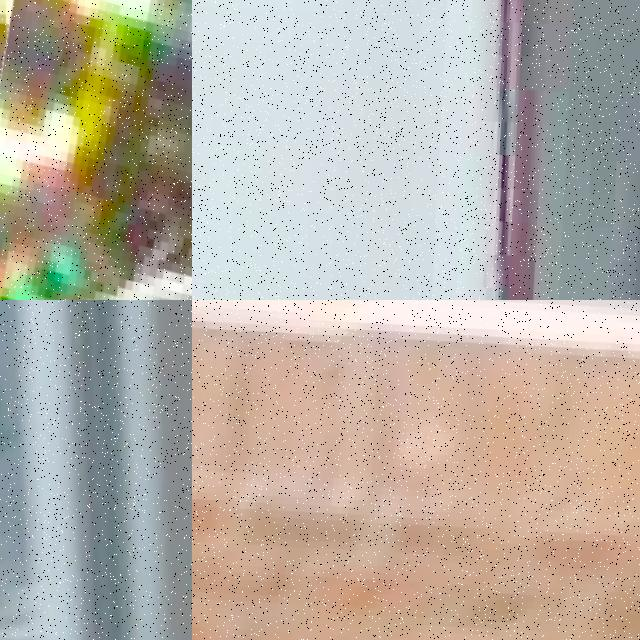drone: (0, 0, 192, 300)
